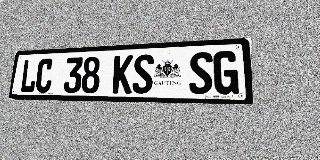3: (63, 57, 83, 93)
8: (81, 56, 101, 93)
C: (35, 58, 54, 93)
G: (213, 50, 239, 94)
K: (112, 55, 133, 94)
L: (19, 59, 38, 93)
S: (189, 51, 213, 94), (132, 54, 154, 94)
